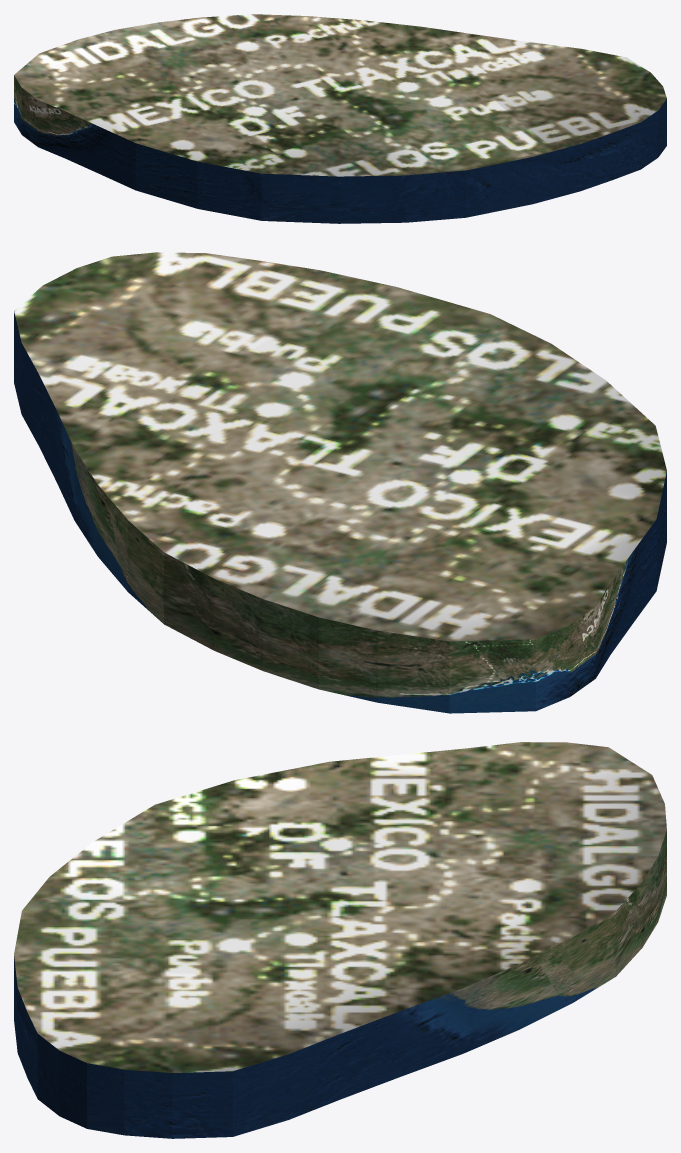
Rendered from zonateotihuacan.fbx.
The picture shows the model from 3 angles, top to bottom: view 1: azimuth 30°, elevation 25°; view 2: azimuth 150°, elevation 25°; view 3: azimuth 270°, elevation 25°; orthographic projection. The views are drawn at different scales.
Visible parts, largest first — view 1: Mapa.002; view 2: Mapa.002; view 3: Mapa.002.
Part boxes in pixels (left/top/right/bottom): Mapa.002: left=14, top=14, right=666, bottom=223; Mapa.002: left=14, top=252, right=666, bottom=713; Mapa.002: left=14, top=742, right=666, bottom=1138.
Size of the model in its own units: 397 by 36.81 by 331.
